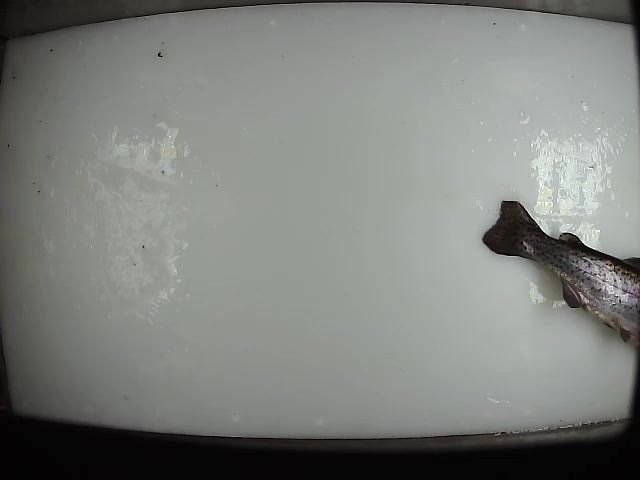fish: (480, 198, 640, 350)
